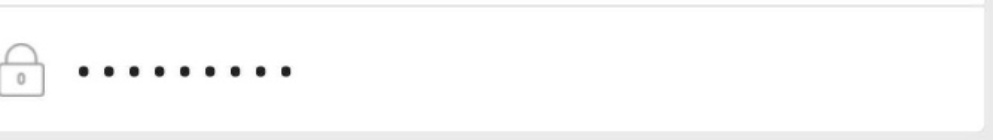EditText: (1, 1, 992, 139)
